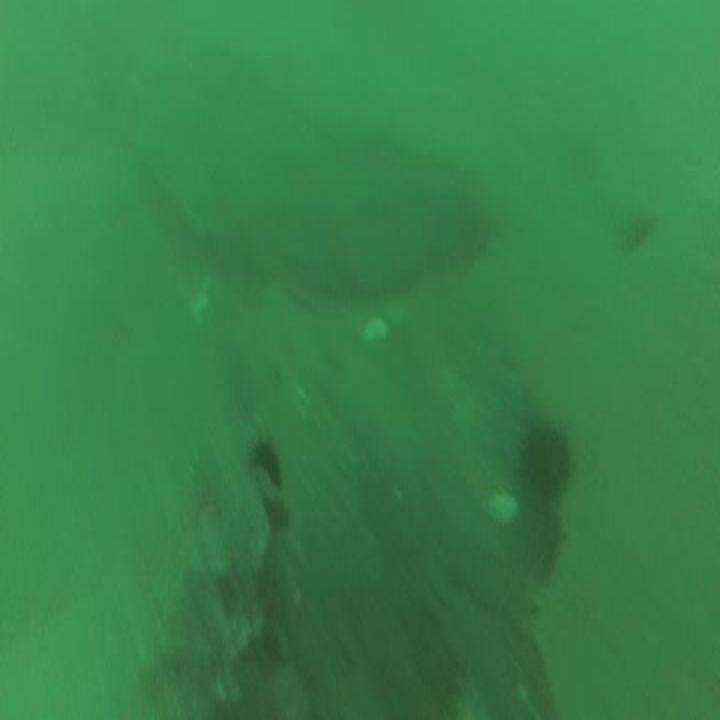echinus: (514, 405, 580, 514), (245, 418, 287, 498)
